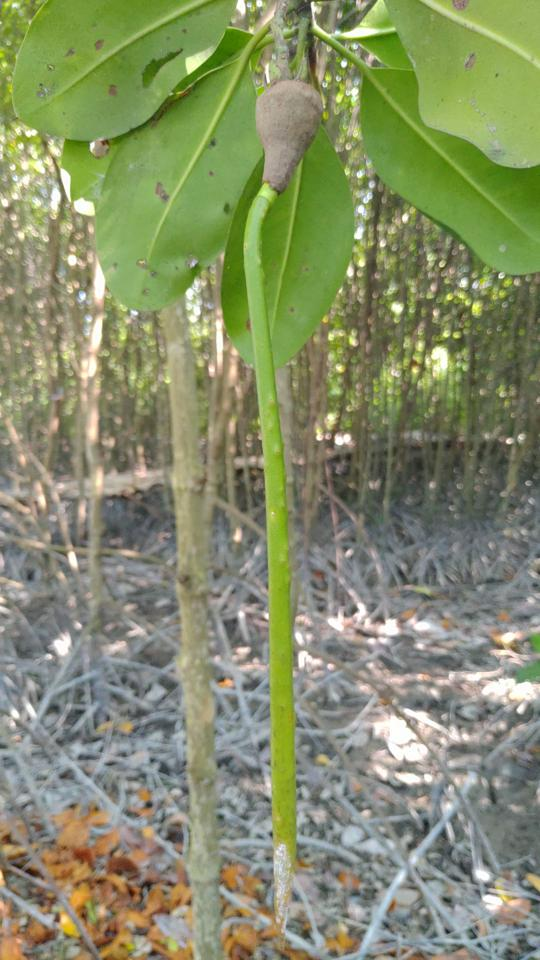setengah matang: (234, 67, 348, 926)
